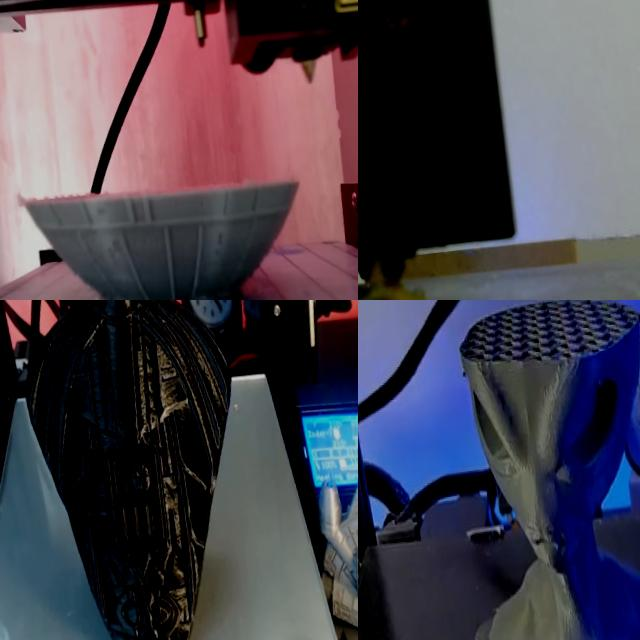spaghetti: (361, 258, 424, 300)
